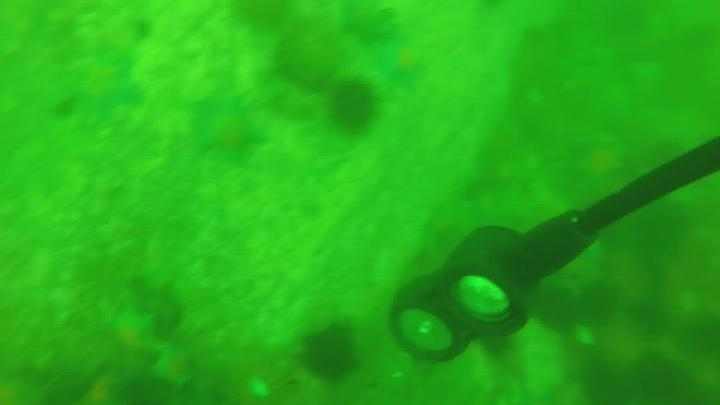echinus: (296, 324, 355, 383), (329, 78, 376, 131)
starfish: (188, 98, 263, 165), (74, 56, 138, 117)
